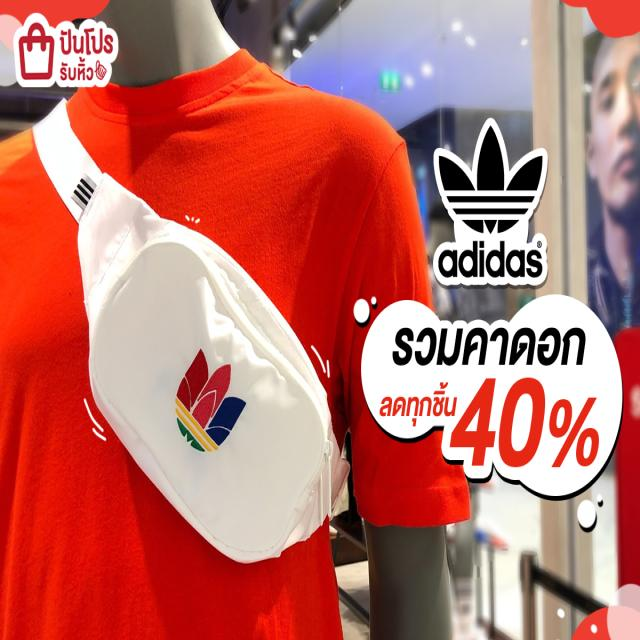Handbag: (77, 178, 344, 574)
